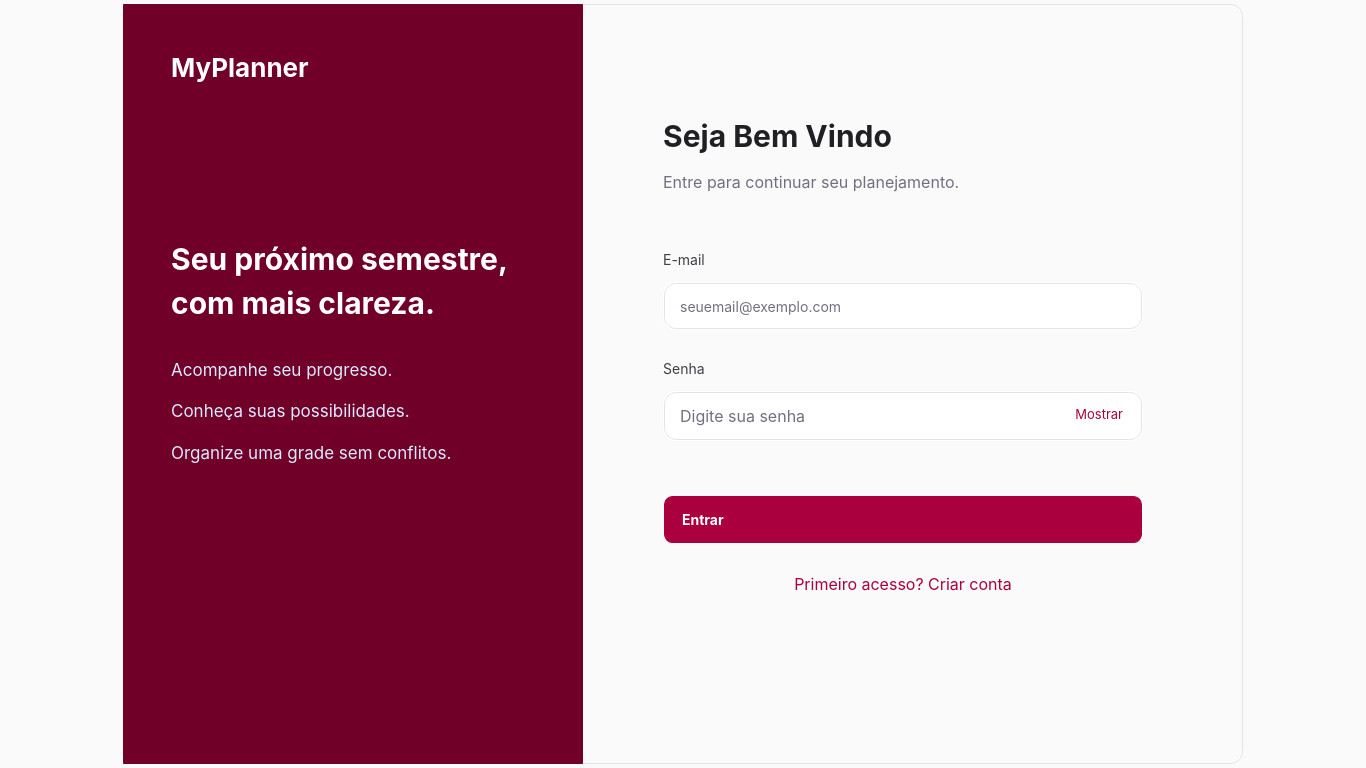
Test case: Access (tela de login) › mostra uma mensagem amigável quando a senha está errada
This screenshot has width=1366, height=768.
Type "aluno@ufop.edu.br" into the field labelled "E-mail" at x=903, y=306, box [663, 282, 1143, 330]
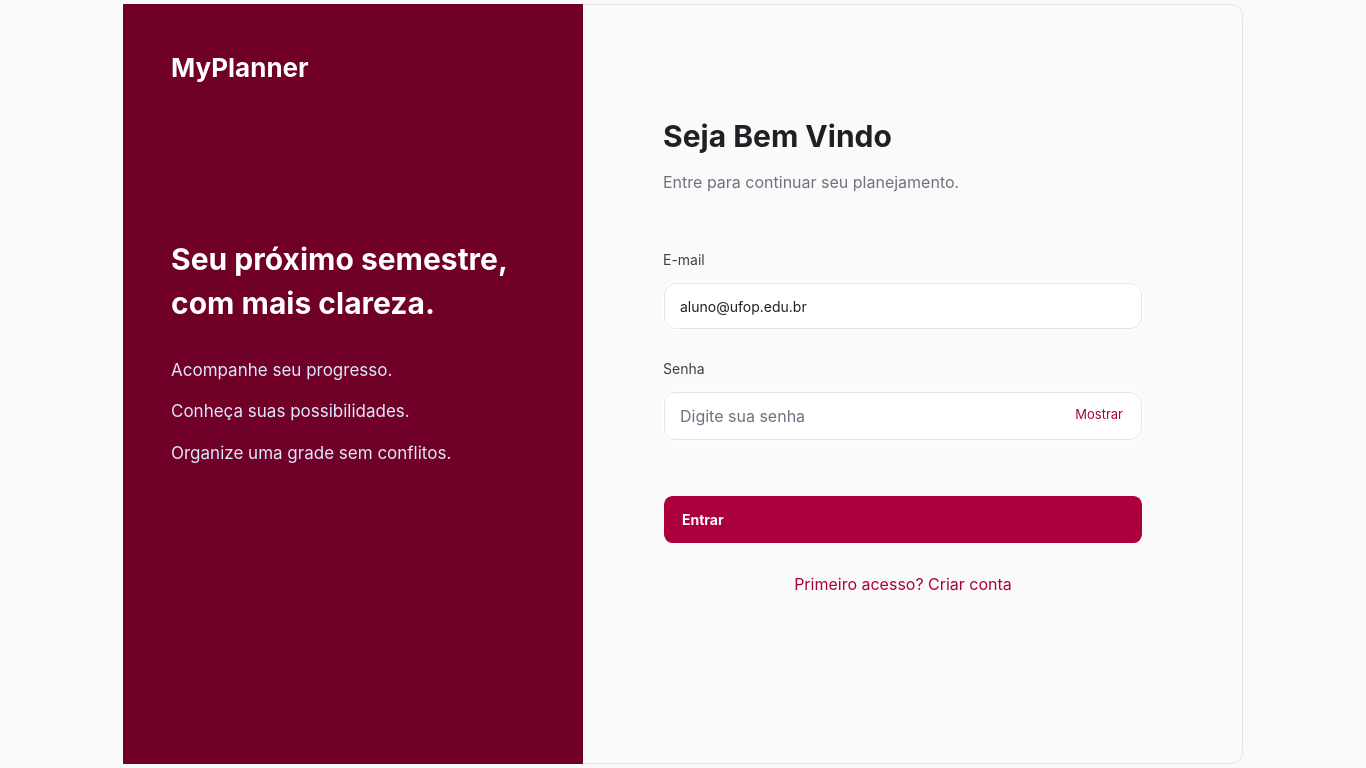
Type "senhaerrada" into the password field labelled "Senha" at x=903, y=416, box [663, 391, 1143, 441]
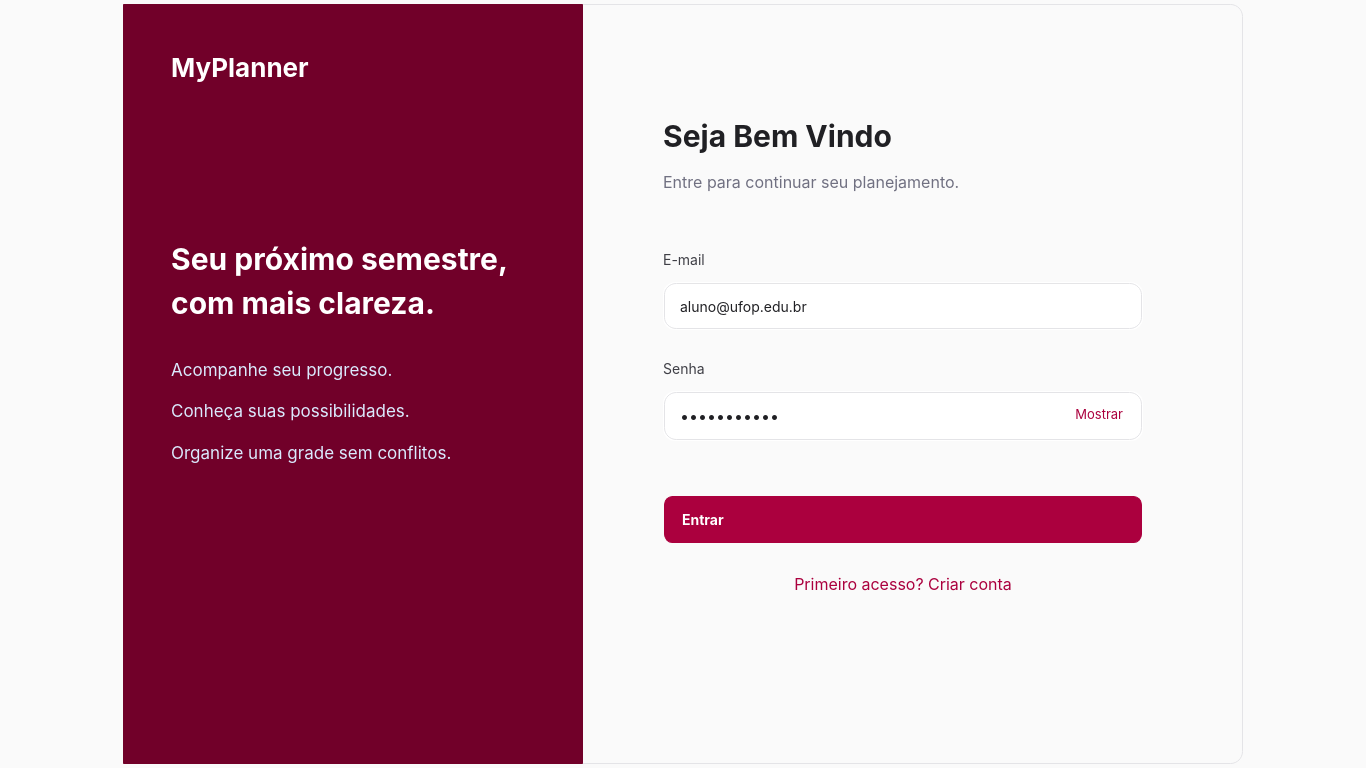
Click the button "Entrar" at x=703, y=520, box [663, 495, 1143, 544]
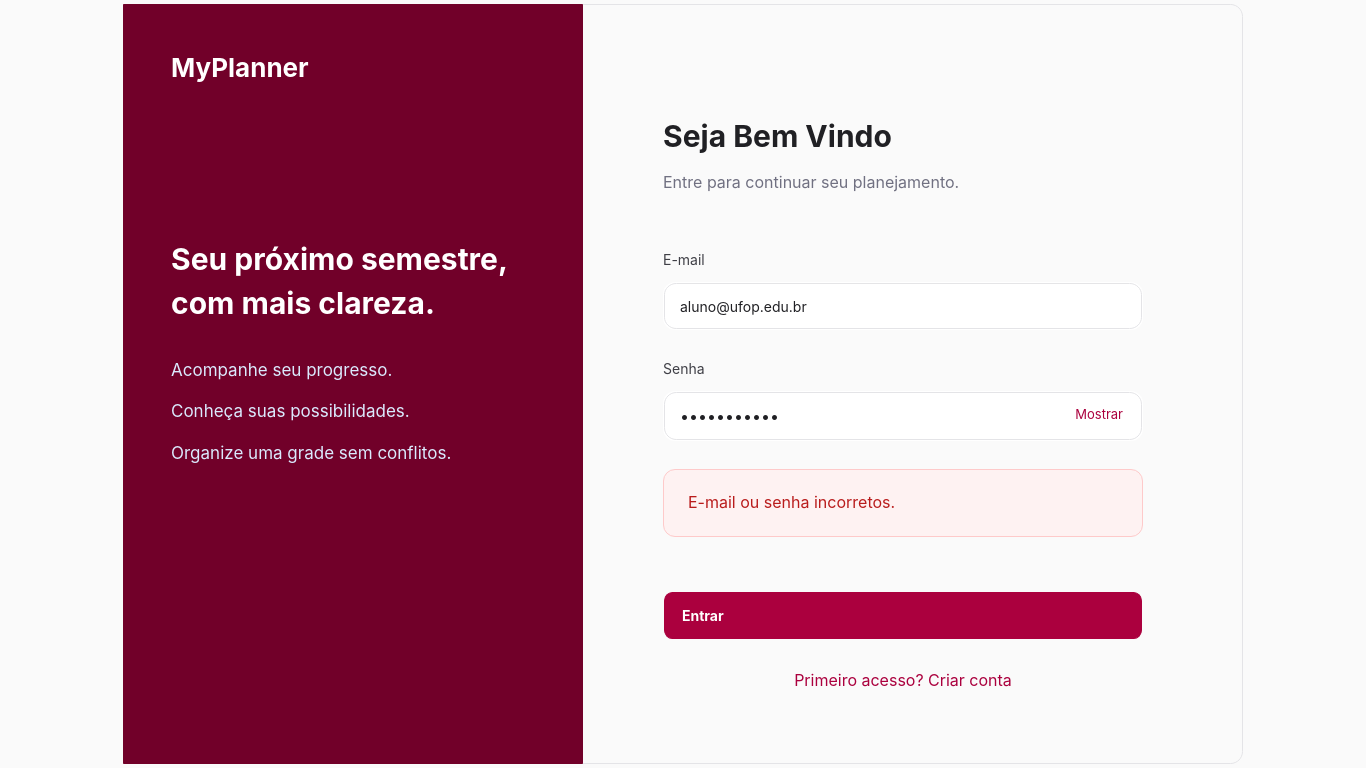
Expected: the button "Entrar" is enabled, [663, 591, 1143, 640]
Expected: the message reads "E-mail ou senha incorretos.", [688, 492, 895, 512]
